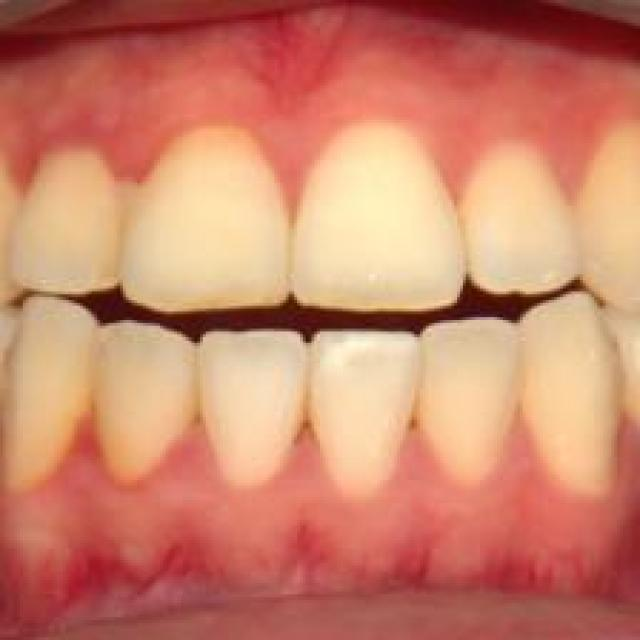karies: (286, 386, 320, 446), (403, 392, 420, 432), (183, 391, 203, 423)
